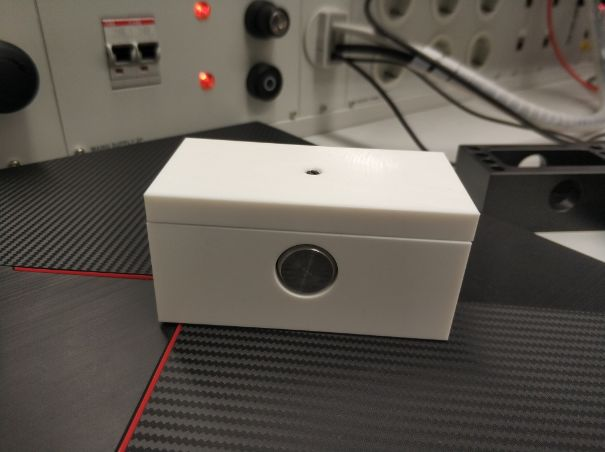white+white+silver: (137, 133, 486, 353)
